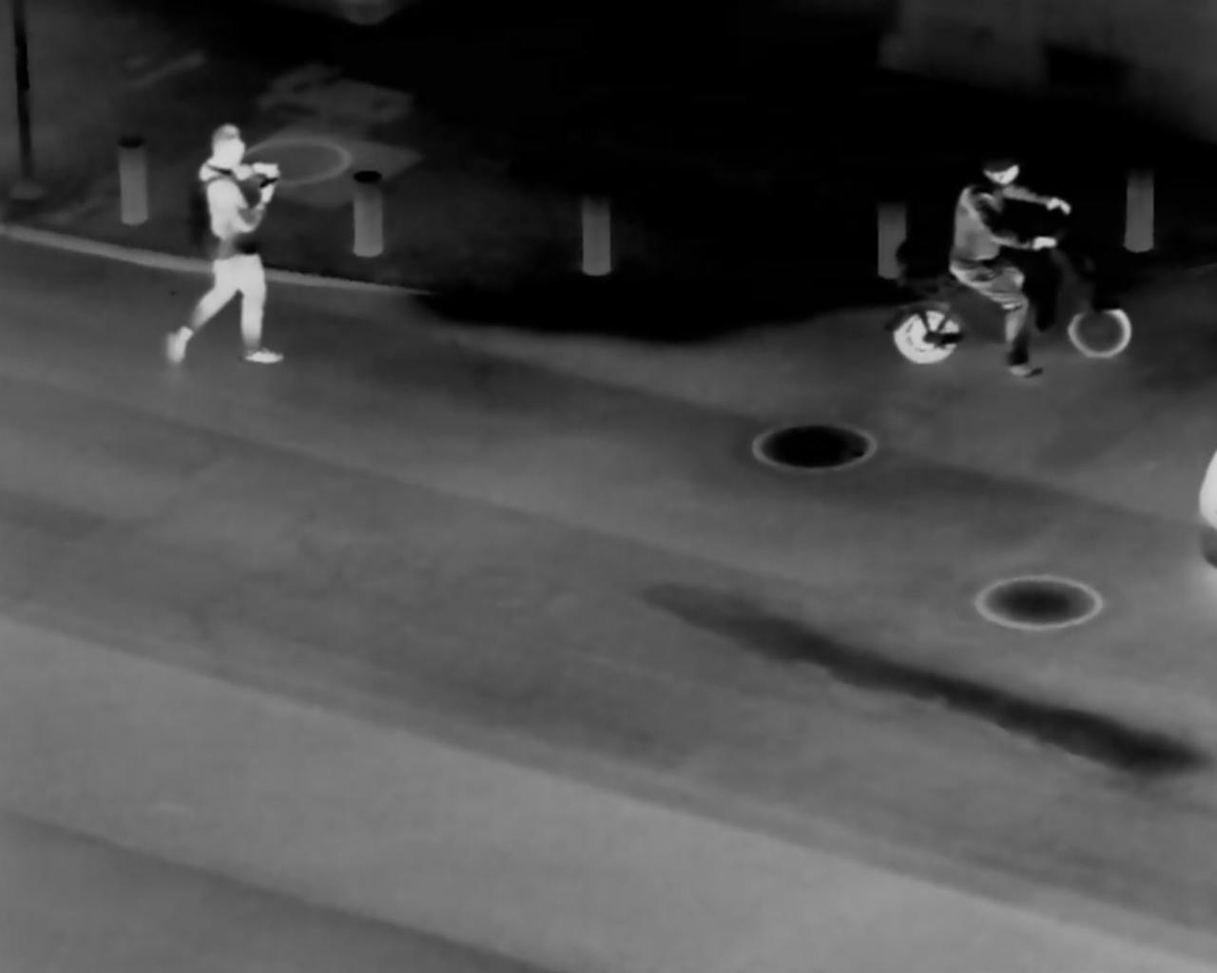person: (936, 144, 1068, 375), (170, 111, 283, 372)
